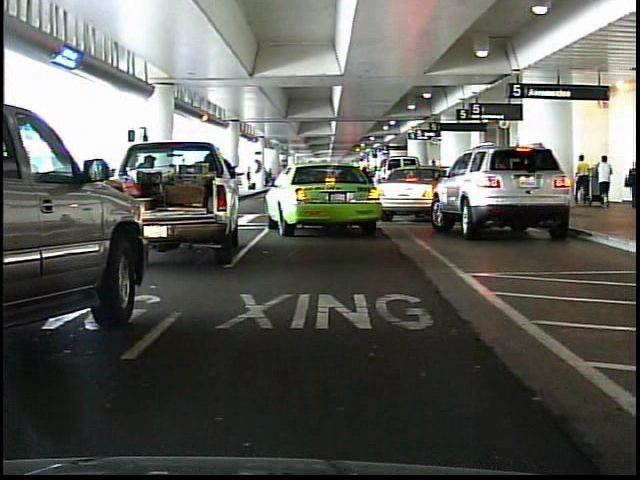person: (596, 152, 614, 208), (577, 150, 594, 207), (622, 159, 636, 210)
